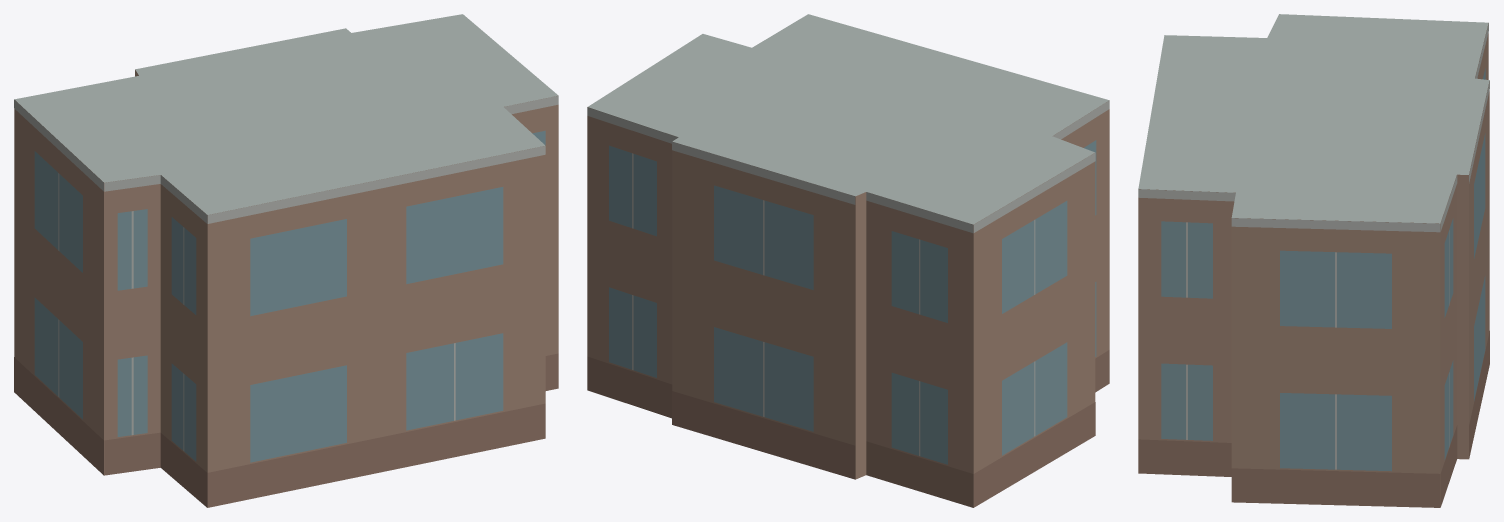
Rendered from survey-upis-32751254.glb.
The picture shows the model from 3 angles, left to right: view 1: azimuth 30°, elevation 25°; view 2: azimuth 150°, elevation 25°; view 3: azimuth 270°, elevation 25°; orthographic projection. The views are drawn at different scales.
Parts seen in each view (by area): view 1: survey-upis-32751254.tmp; view 2: survey-upis-32751254.tmp; view 3: survey-upis-32751254.tmp.
Boxes of the visible parts, x1,y1,x2,y2 form: survey-upis-32751254.tmp: (14, 14, 558, 507); survey-upis-32751254.tmp: (587, 14, 1109, 507); survey-upis-32751254.tmp: (1138, 14, 1489, 507).
Size of the model in its own units: 12.49 by 7.9 by 8.86.
